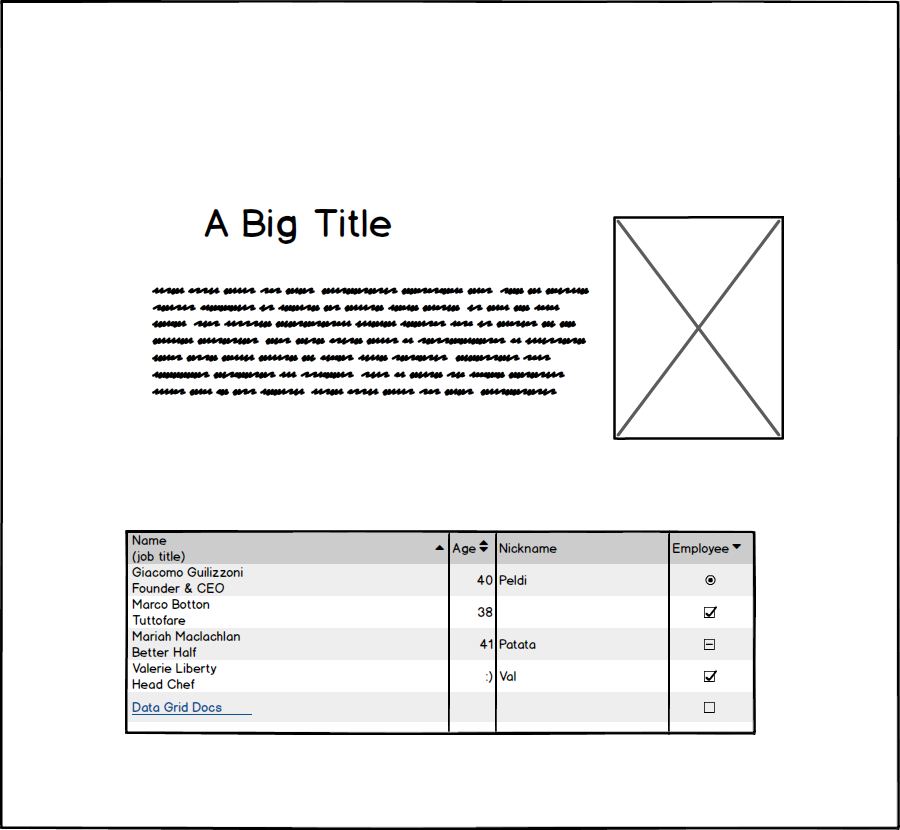h1: (192, 196, 402, 257)
image: (609, 209, 788, 447)
p: (144, 281, 598, 401)
table: (117, 520, 766, 749)
